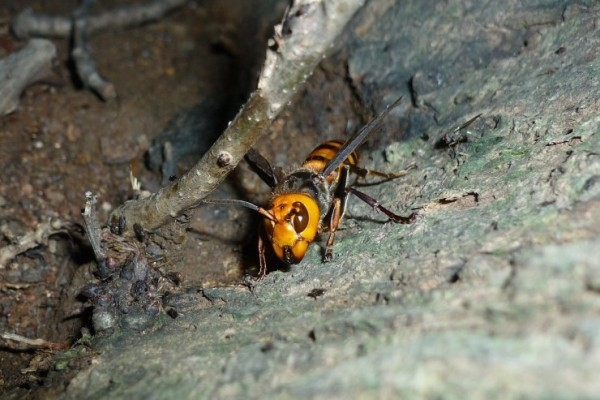asian_giant_hornet: (242, 101, 400, 278)
